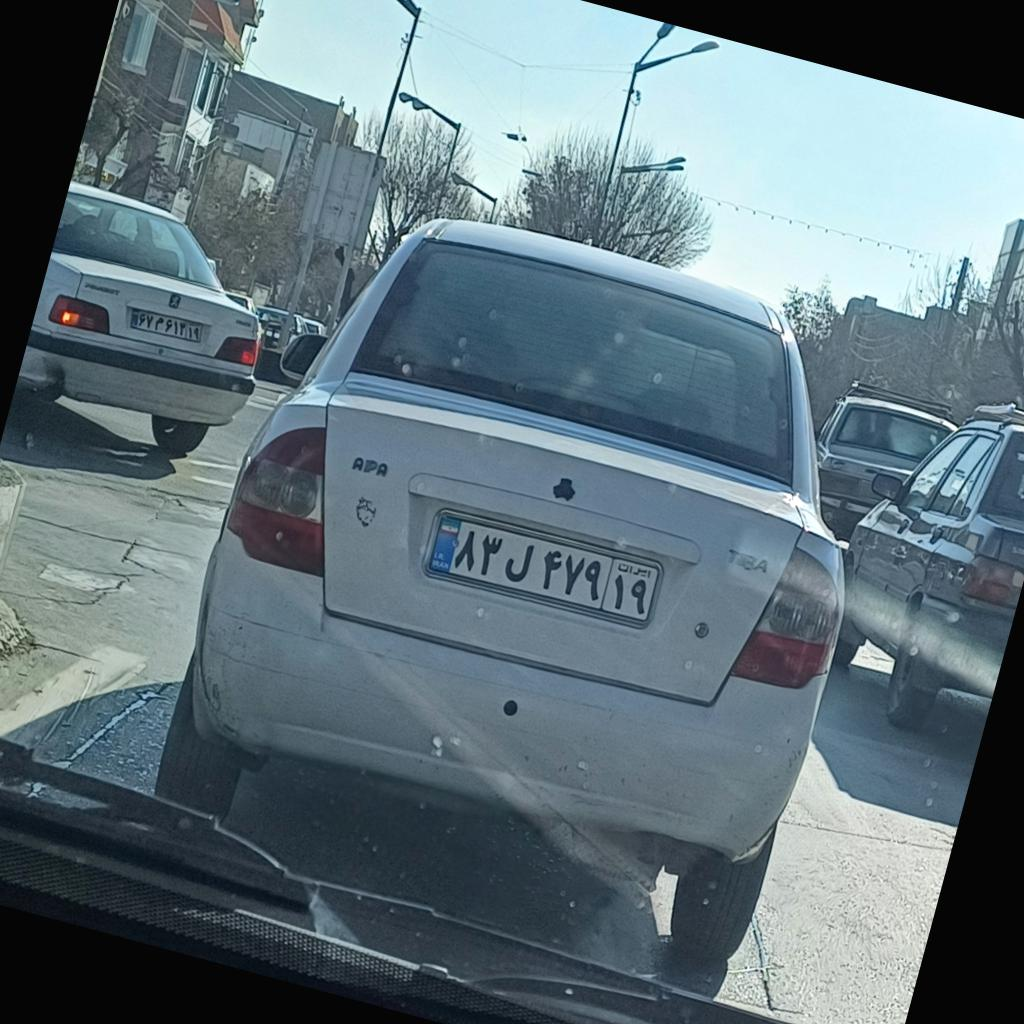Plates: (423, 505, 665, 630), (127, 305, 206, 346)
